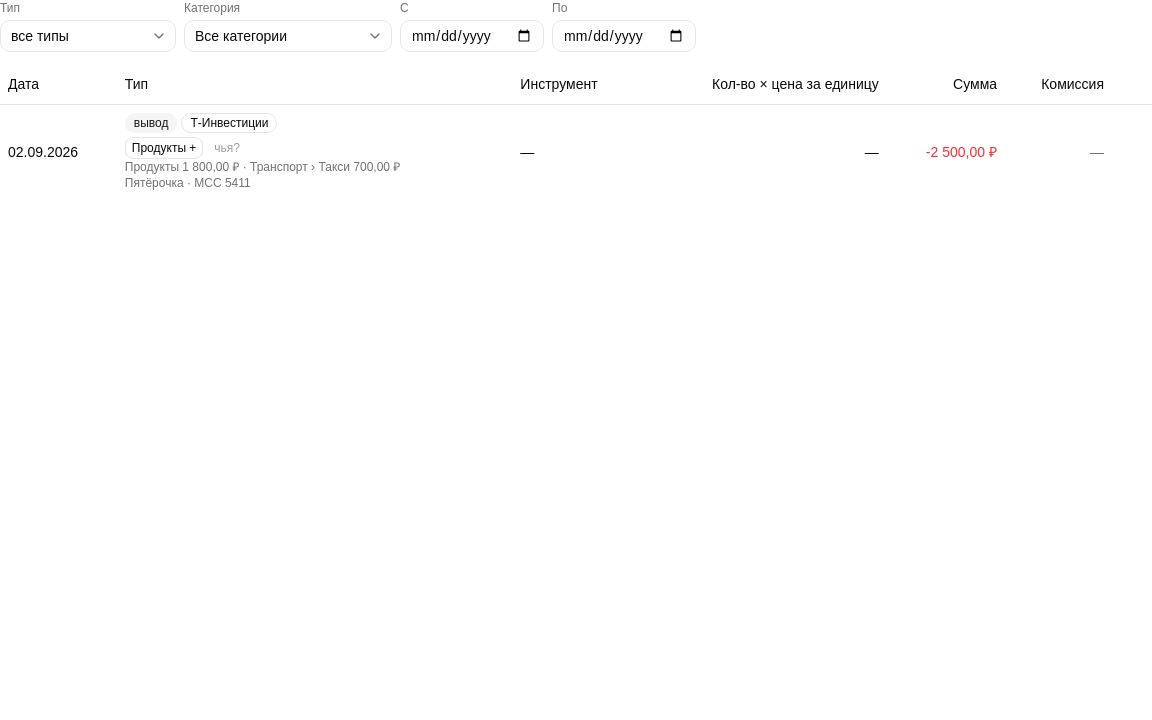
it: the journal's categories › shows a split row's parts and leads to them from the category's list
The width and height of the screenshot is (1152, 720).
Click the button with test id "operation-category".
click(164, 148)  # box [125, 136, 203, 158]
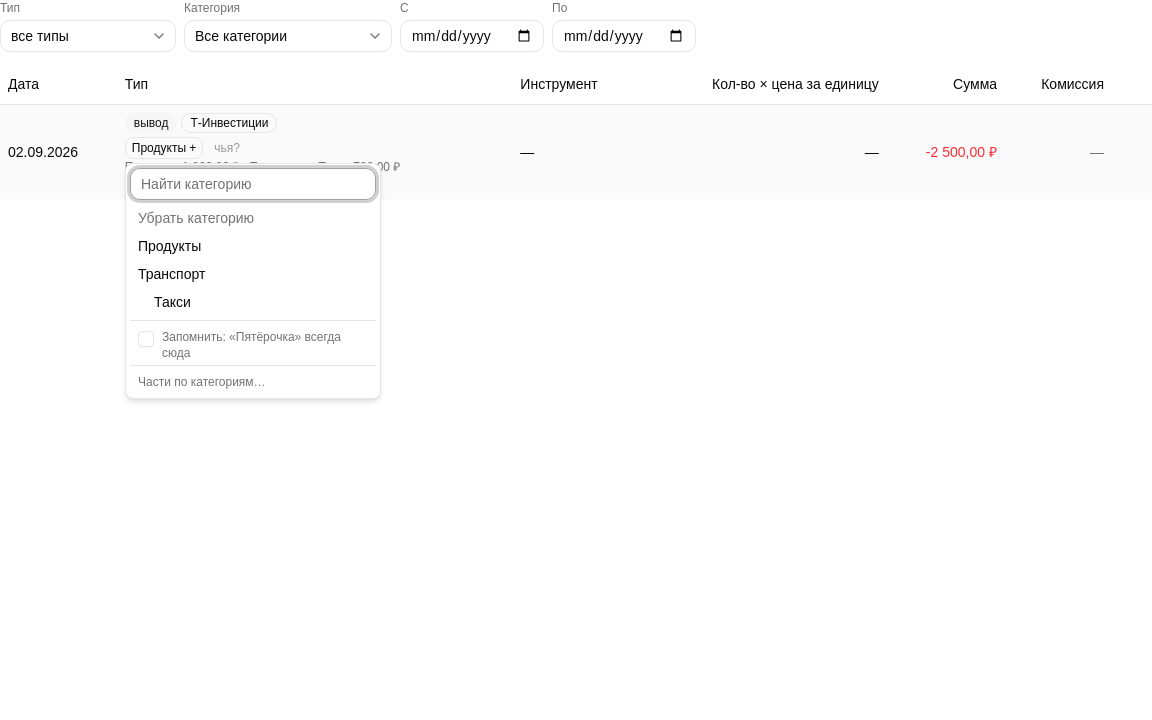
Click the button with test id "category-split".
click(253, 380)  # box [130, 365, 376, 394]
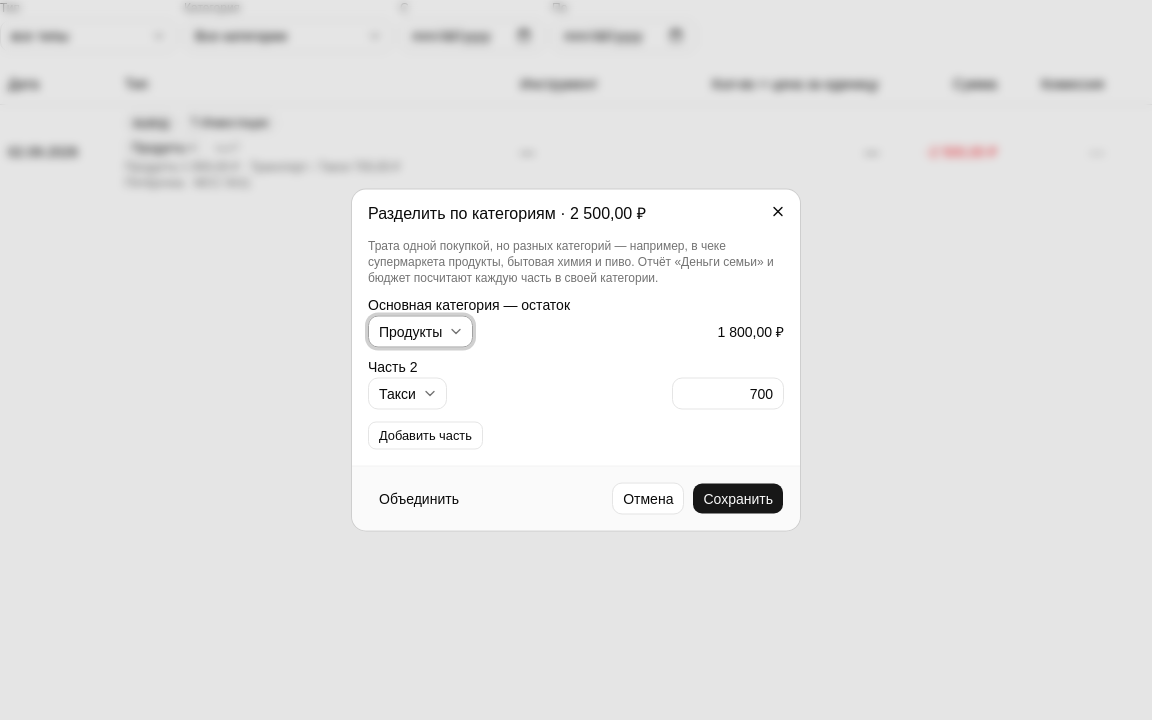
Expected: the field named "Сумма части 2" holds "700", [672, 378, 784, 410]
